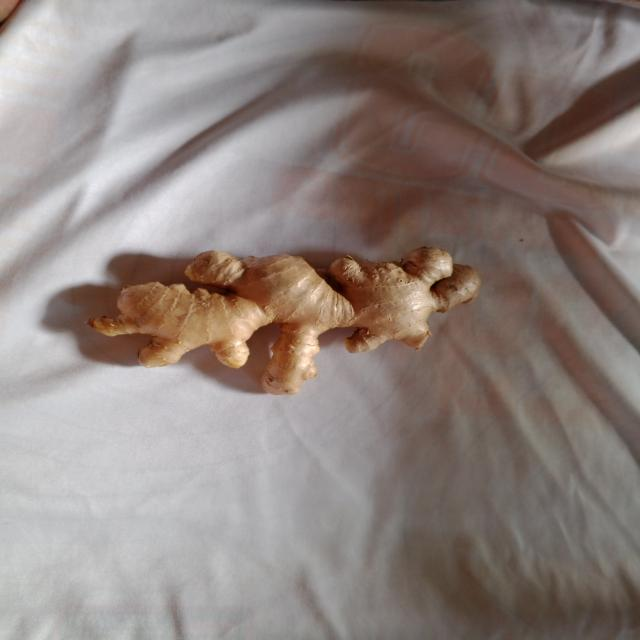ginger: (94, 243, 483, 416)
